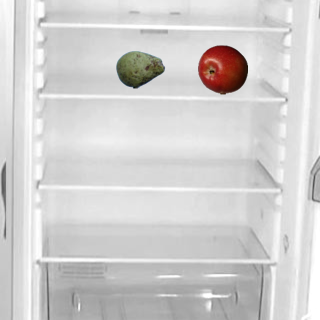Apple Braeburn: (197, 44, 247, 94)
Pear Stone: (115, 44, 165, 94)
